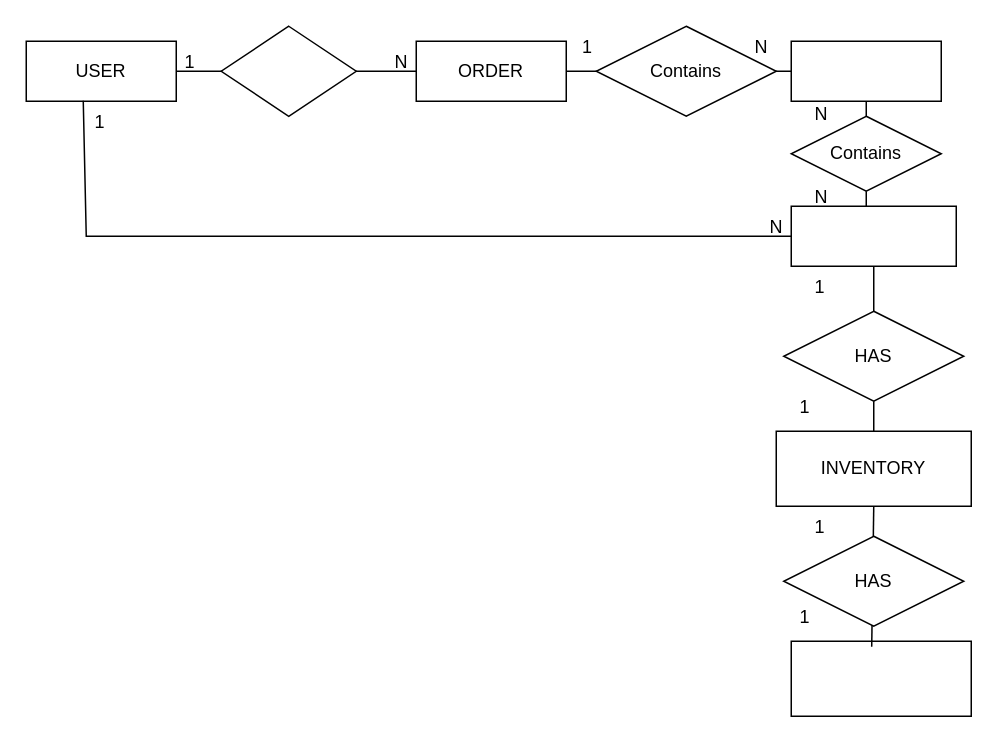
The diagram is 998 pixels wide and 743 high, and some of its shapes have lost their labels. The shapes that lost their labels are listed below. From the top down, each one's centre as x and y in pixels, then its label:
[288,70]: PLACE
[865,70]: ORDERITEMS
[873,235]: PRODUCT
[880,678]: CATEGORIES
